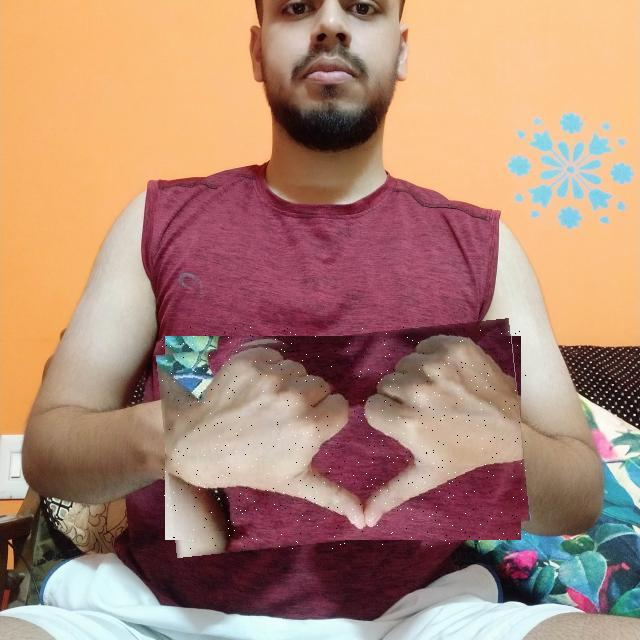A: (161, 327, 526, 549)
